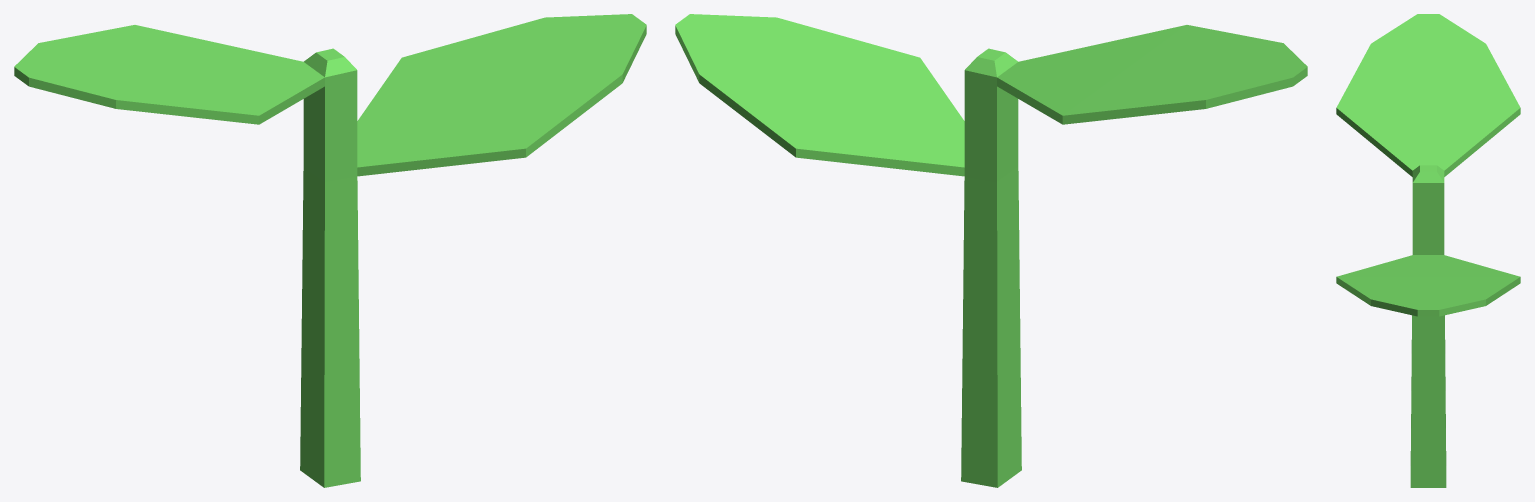
File: PlantSapling.fbx
The picture shows the model from 3 angles, left to right: view 1: azimuth 30°, elevation 25°; view 2: azimuth 150°, elevation 25°; view 3: azimuth 270°, elevation 25°; orthographic projection. The views are drawn at different scales.
Visible parts, largest first — view 1: Plane; view 2: Plane; view 3: Plane.
Part boxes in pixels (x1,y1,x2,y2): Plane: (14,14,646,487); Plane: (675,14,1307,487); Plane: (1336,14,1520,487).
Size of the model in its own units: 25.99 by 19.3 by 9.06.
